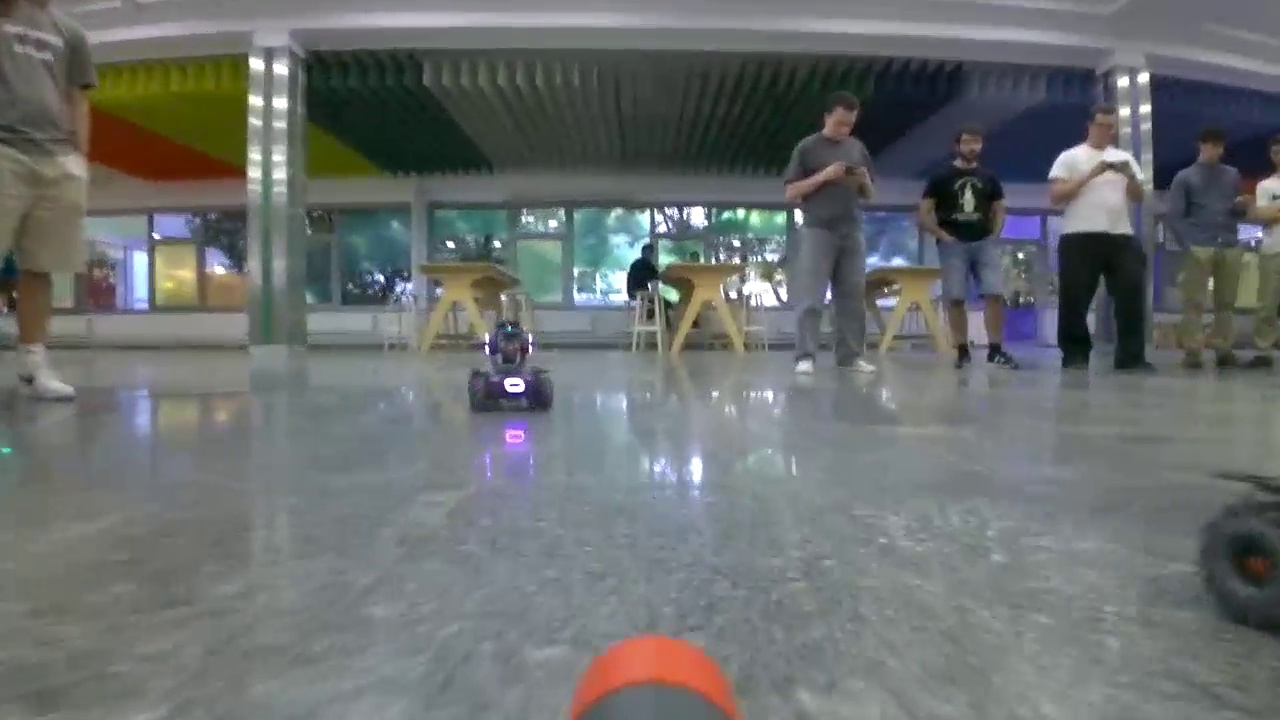robot: (468, 320, 555, 410)
